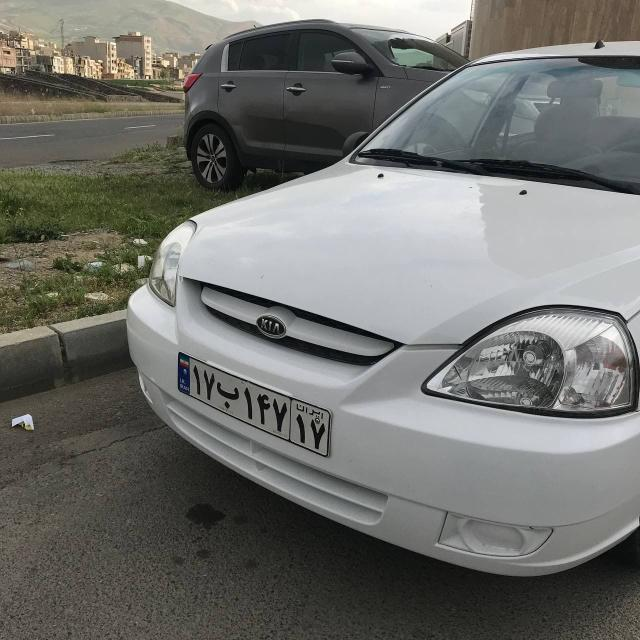Plates: (162, 352, 344, 457)
